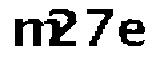2: (48, 6, 78, 50)
7: (84, 5, 115, 48)
e: (118, 17, 145, 51)
m: (9, 17, 60, 51)
